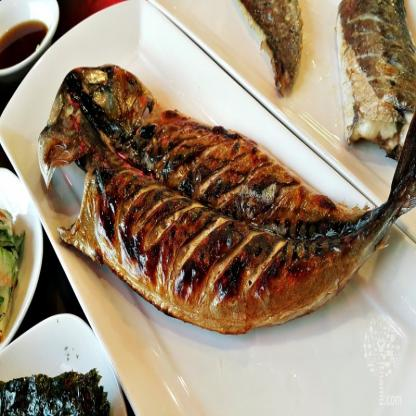Peixe: (34, 46, 416, 327)
